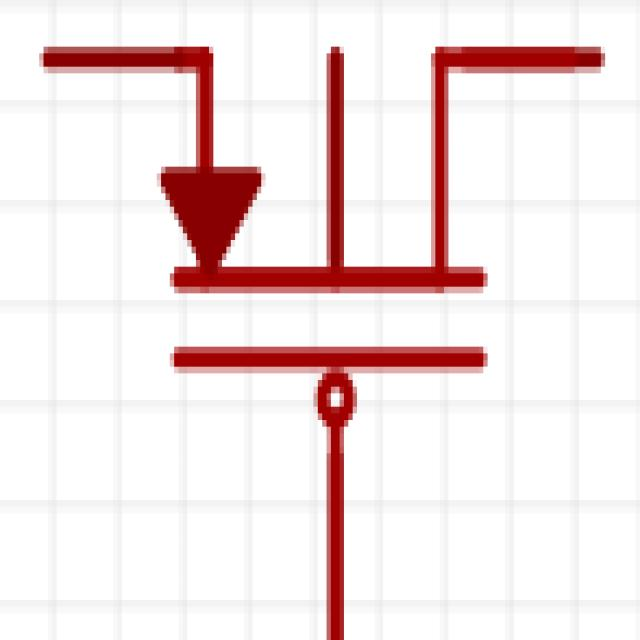pmos: (43, 0, 636, 640)
